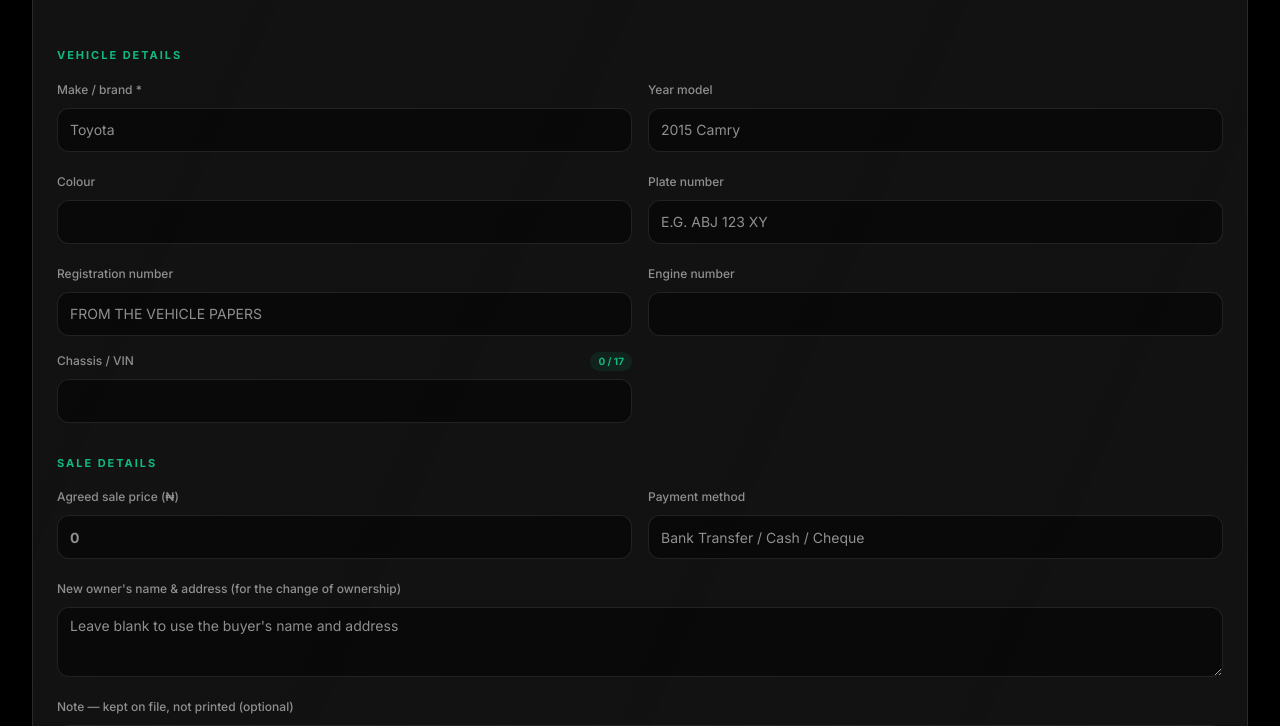
Test: Sales Agreement › takes the full 17-character chassis number, upper-cased
(page scrolled)
Step 1. Type "4t1bf1fk5cu123456789" into the field with class "uppercase" → (344, 400), box 57,378 -> 632,422
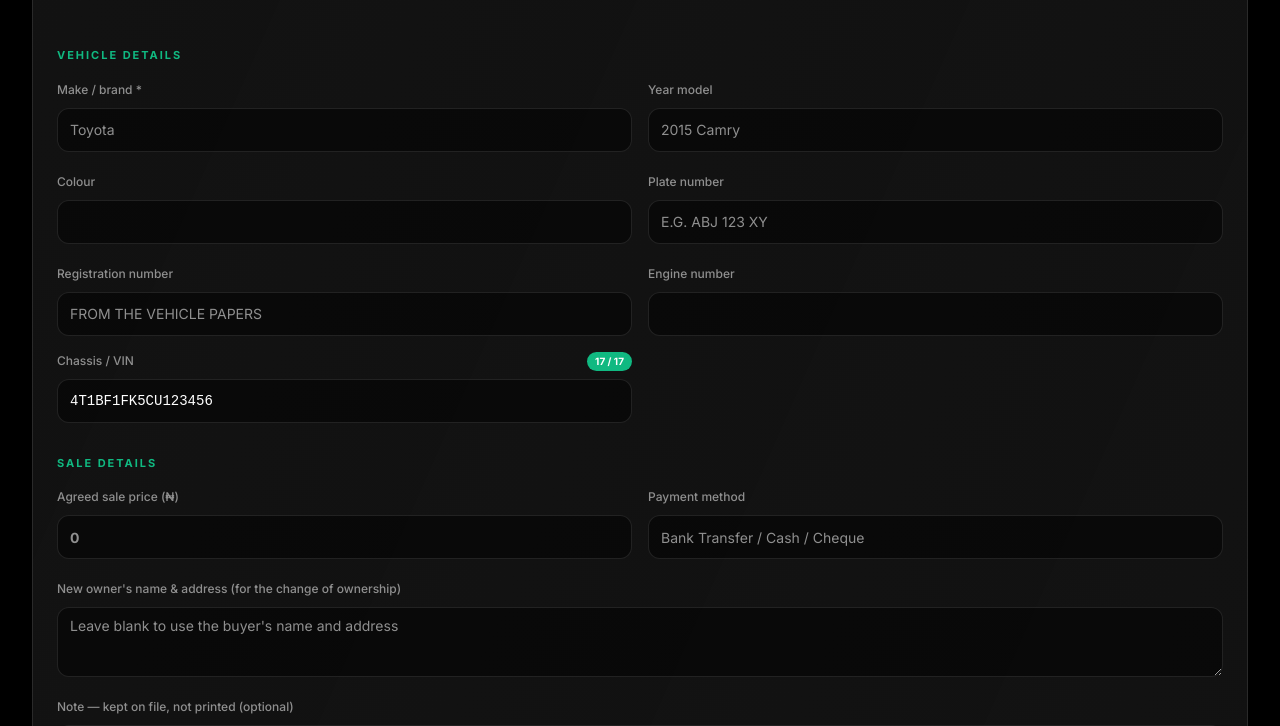
Check: the field with class "uppercase" holds "4T1BF1FK5CU123456", box 57,378 -> 632,422
